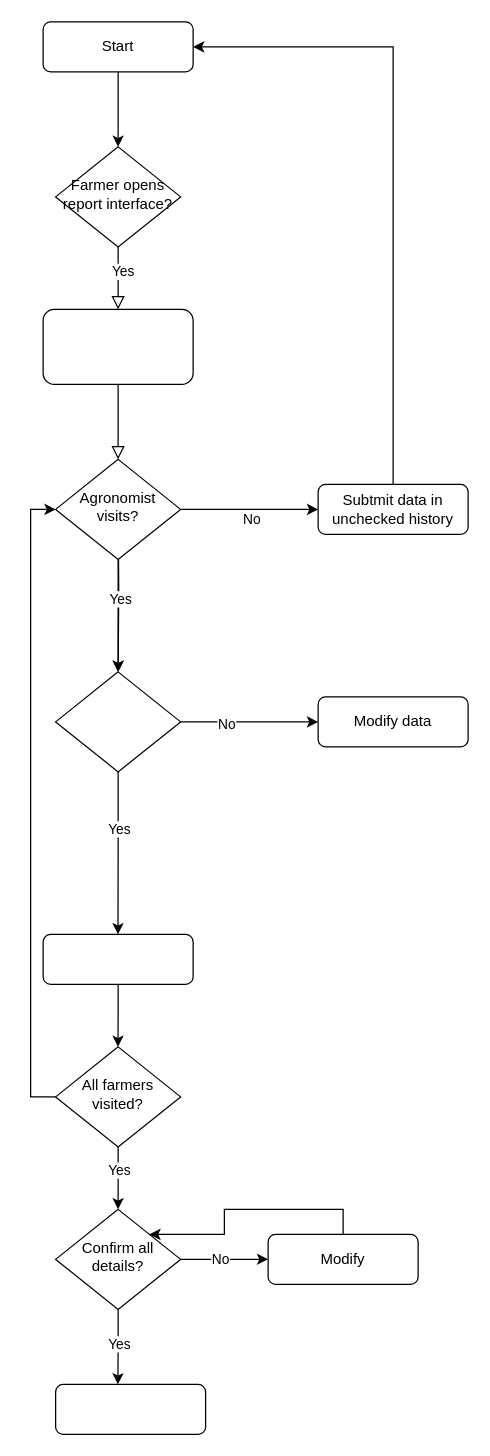
The diagram is 490 pixels wide and 1456 high, and some of its shapes have lost their labels. Each missing label, with the centre of its shape:
Agronomist confirms data?: (x=117, y=721)
Daily plan confirmed and submitted: (x=130, y=1408)
Farmer enters data: (x=117, y=346)
Submit Agronomist Report: (x=117, y=958)
